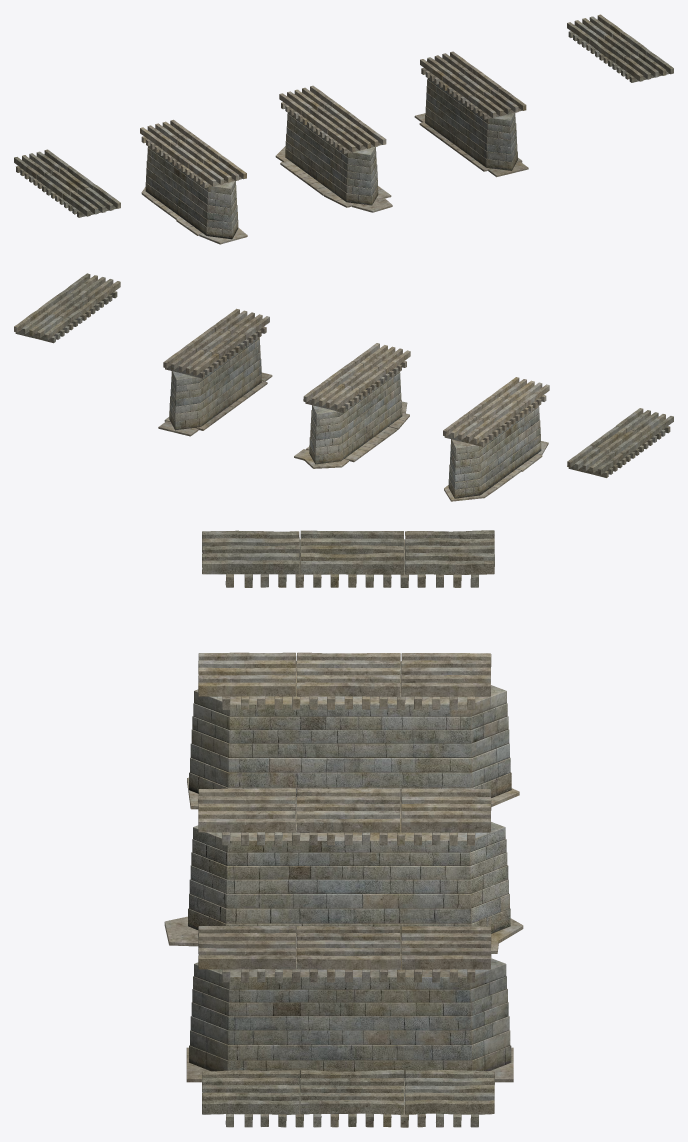
The model's file is pier.glb.
The picture shows the model from 3 angles, top to bottom: view 1: azimuth 30°, elevation 25°; view 2: azimuth 150°, elevation 25°; view 3: azimuth 270°, elevation 25°; orthographic projection. The views are drawn at different scales.
Parts seen in each view (by area): view 1: SM_CWEB_001_02, SM_CWEB_001_03, SM_CWEB_001_01, SM_CWEB_001_05, SM_CWEB_001_04; view 2: SM_CWEB_001_02, SM_CWEB_001_03, SM_CWEB_001_01, SM_CWEB_001_05, SM_CWEB_001_04; view 3: SM_CWEB_001_03, SM_CWEB_001_02, SM_CWEB_001_01, SM_CWEB_001_05, SM_CWEB_001_04.
Boxes of the visible parts, x1,y1,x2,y2 form: SM_CWEB_001_02: (275,85,392,212); SM_CWEB_001_03: (414,51,528,177); SM_CWEB_001_01: (140,119,247,244); SM_CWEB_001_05: (567,14,673,82); SM_CWEB_001_04: (14,149,120,217); SM_CWEB_001_02: (294,343,410,468); SM_CWEB_001_03: (158,308,272,436); SM_CWEB_001_01: (443,377,549,501); SM_CWEB_001_05: (14,273,120,343); SM_CWEB_001_04: (567,408,673,477); SM_CWEB_001_03: (186,926,513,1082); SM_CWEB_001_02: (164,788,523,953); SM_CWEB_001_01: (187,652,519,809); SM_CWEB_001_05: (202,1070,494,1127); SM_CWEB_001_04: (202,530,494,587).
Bounding box in the file's own units: 61.39 × 6.2 × 16.12.
Materials: 5 (5 with a texture image).
